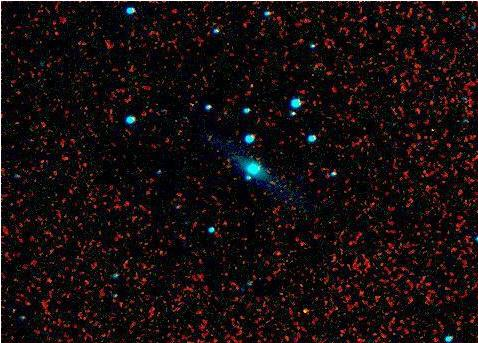star: (291, 295, 321, 325)
